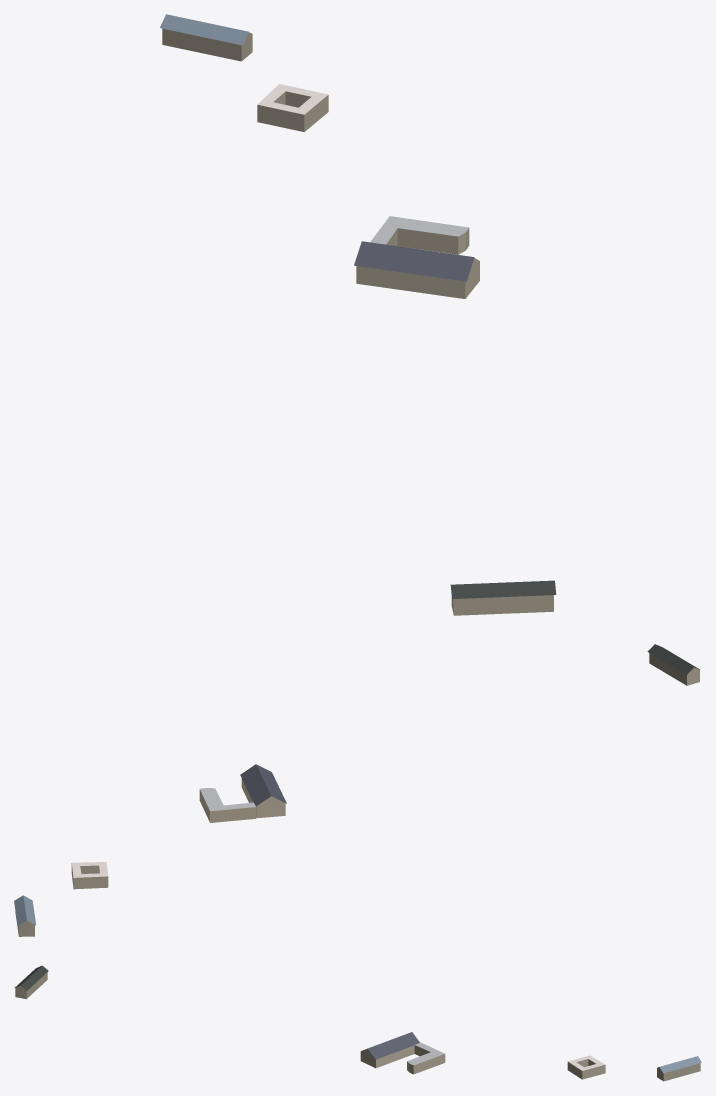
3 views of the same model, one above another, from view 1: azimuth 30°, elevation 25°; view 2: azimuth 150°, elevation 25°; view 3: azimuth 270°, elevation 25° (orthographic). The views are drawn at different scales.
Parts seen in each view (by area): view 1: tuile; view 2: tuile; view 3: tuile.
Boxes of the visible parts, bbox=[...] form: tuile: bbox=[160, 14, 556, 615]; tuile: bbox=[14, 644, 700, 936]; tuile: bbox=[15, 965, 701, 1081].
Bounding box in the file's own units: 86.44 × 6.33 × 239.
